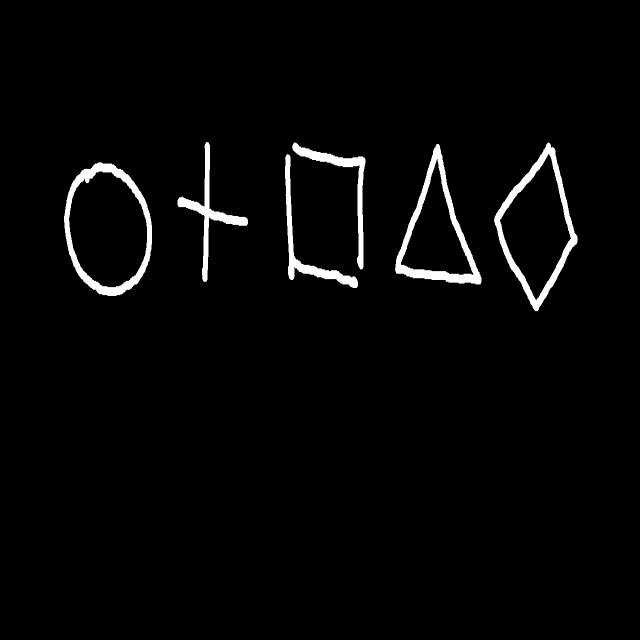Circle: (64, 163, 152, 296)
Cross: (178, 142, 248, 282)
Diamond: (494, 142, 577, 311)
Square: (283, 135, 367, 293)
Triangle: (396, 144, 481, 283)
